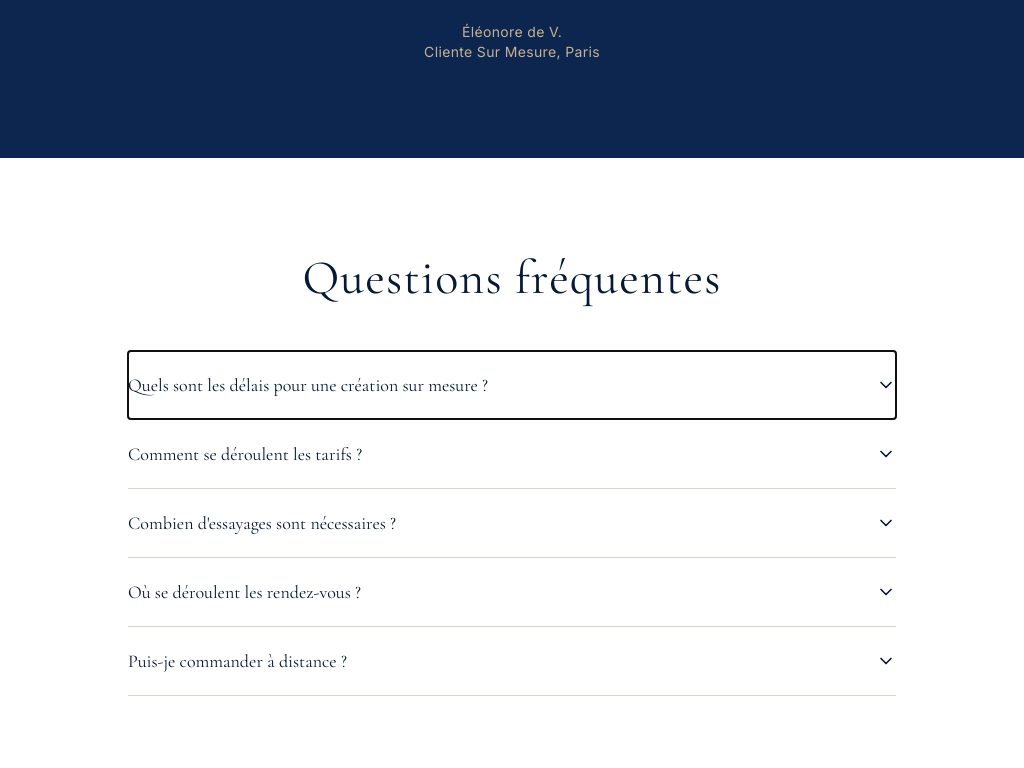
Test: SurMesureProcessPage › opens exactly one FAQ item at a time, navigable via keyboard
(page scrolled)
Press Enter
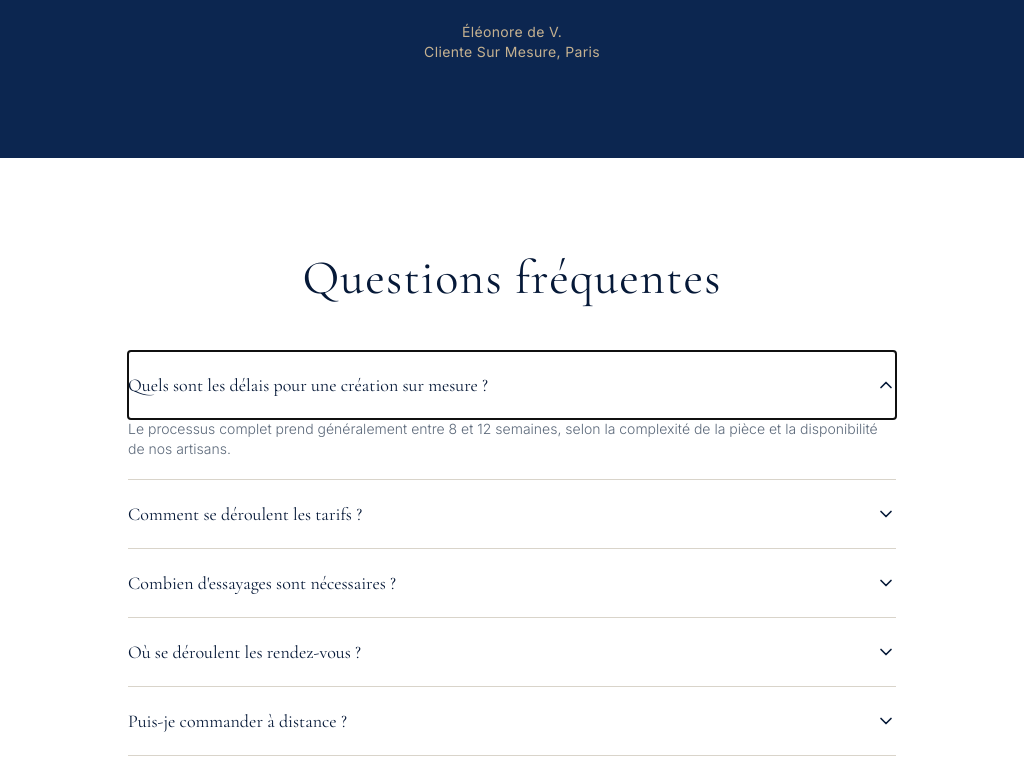
Expected: the button "Quels sont les délais pour une création sur mesure ?" is expanded, [128,351,896,419]
Click the button "Comment se déroulent les tarifs ?" at (245, 514), box [128,480,896,548]
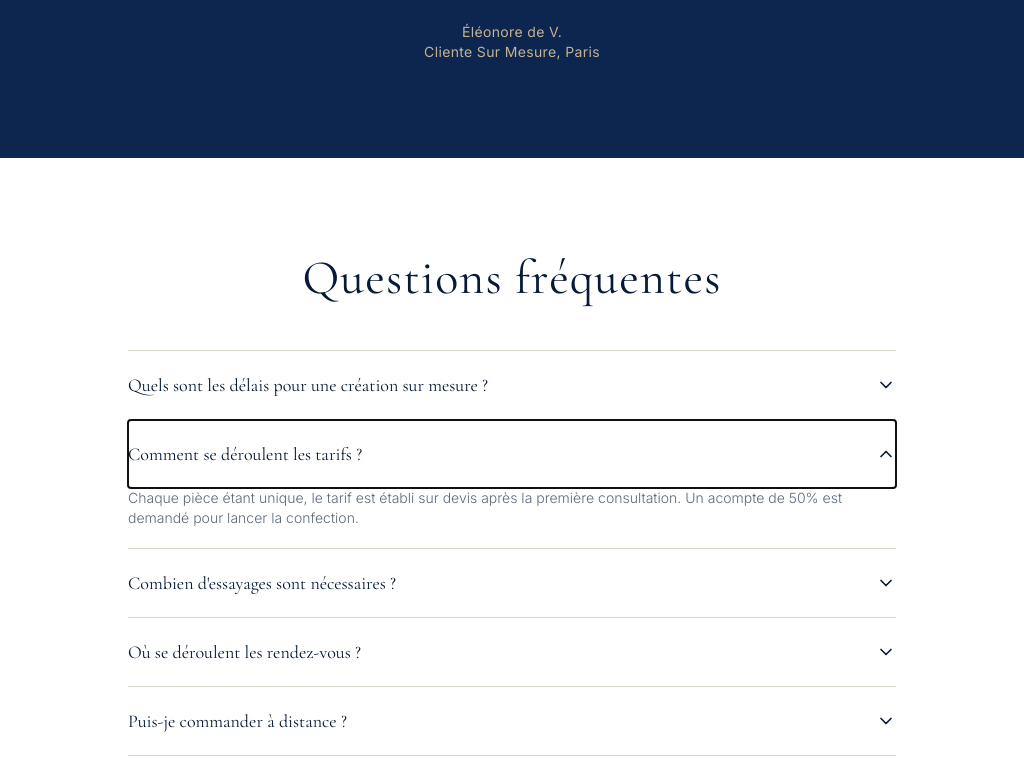
Expected: the button "Quels sont les délais pour une création sur mesure ?" is collapsed, [128,351,896,419]
Expected: the button "Comment se déroulent les tarifs ?" is expanded, [128,420,896,488]
